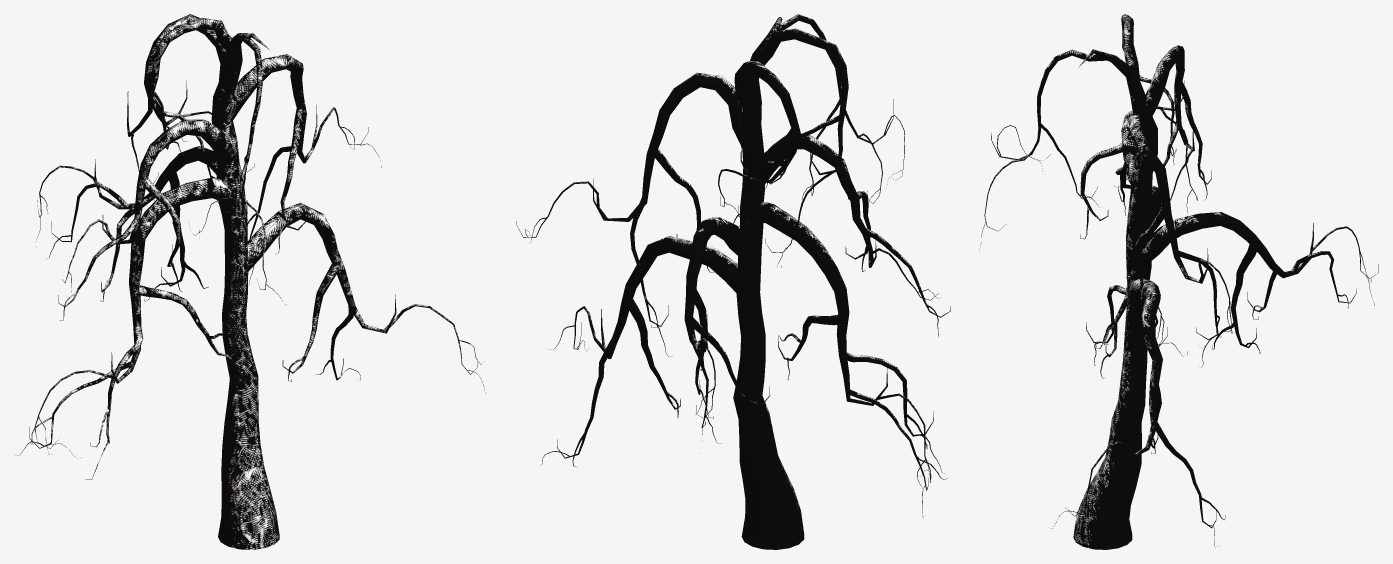
File: tree.glb
The picture shows the model from 3 angles, left to right: view 1: azimuth 30°, elevation 25°; view 2: azimuth 150°, elevation 25°; view 3: azimuth 270°, elevation 25°; orthographic projection. The views are drawn at different scales.
Parts seen in each view (by area): view 1: SpookyTree_00; view 2: SpookyTree_00; view 3: SpookyTree_00.
Part boxes in pixels (left/top/right/bottom): SpookyTree_00: left=14, top=14, right=486, bottom=549; SpookyTree_00: left=516, top=14, right=950, bottom=549; SpookyTree_00: left=980, top=14, right=1378, bottom=549.
Bounding box in the file's own units: 31.9 × 37.08 × 27.03.
Materials: 1 (1 with a texture image).
